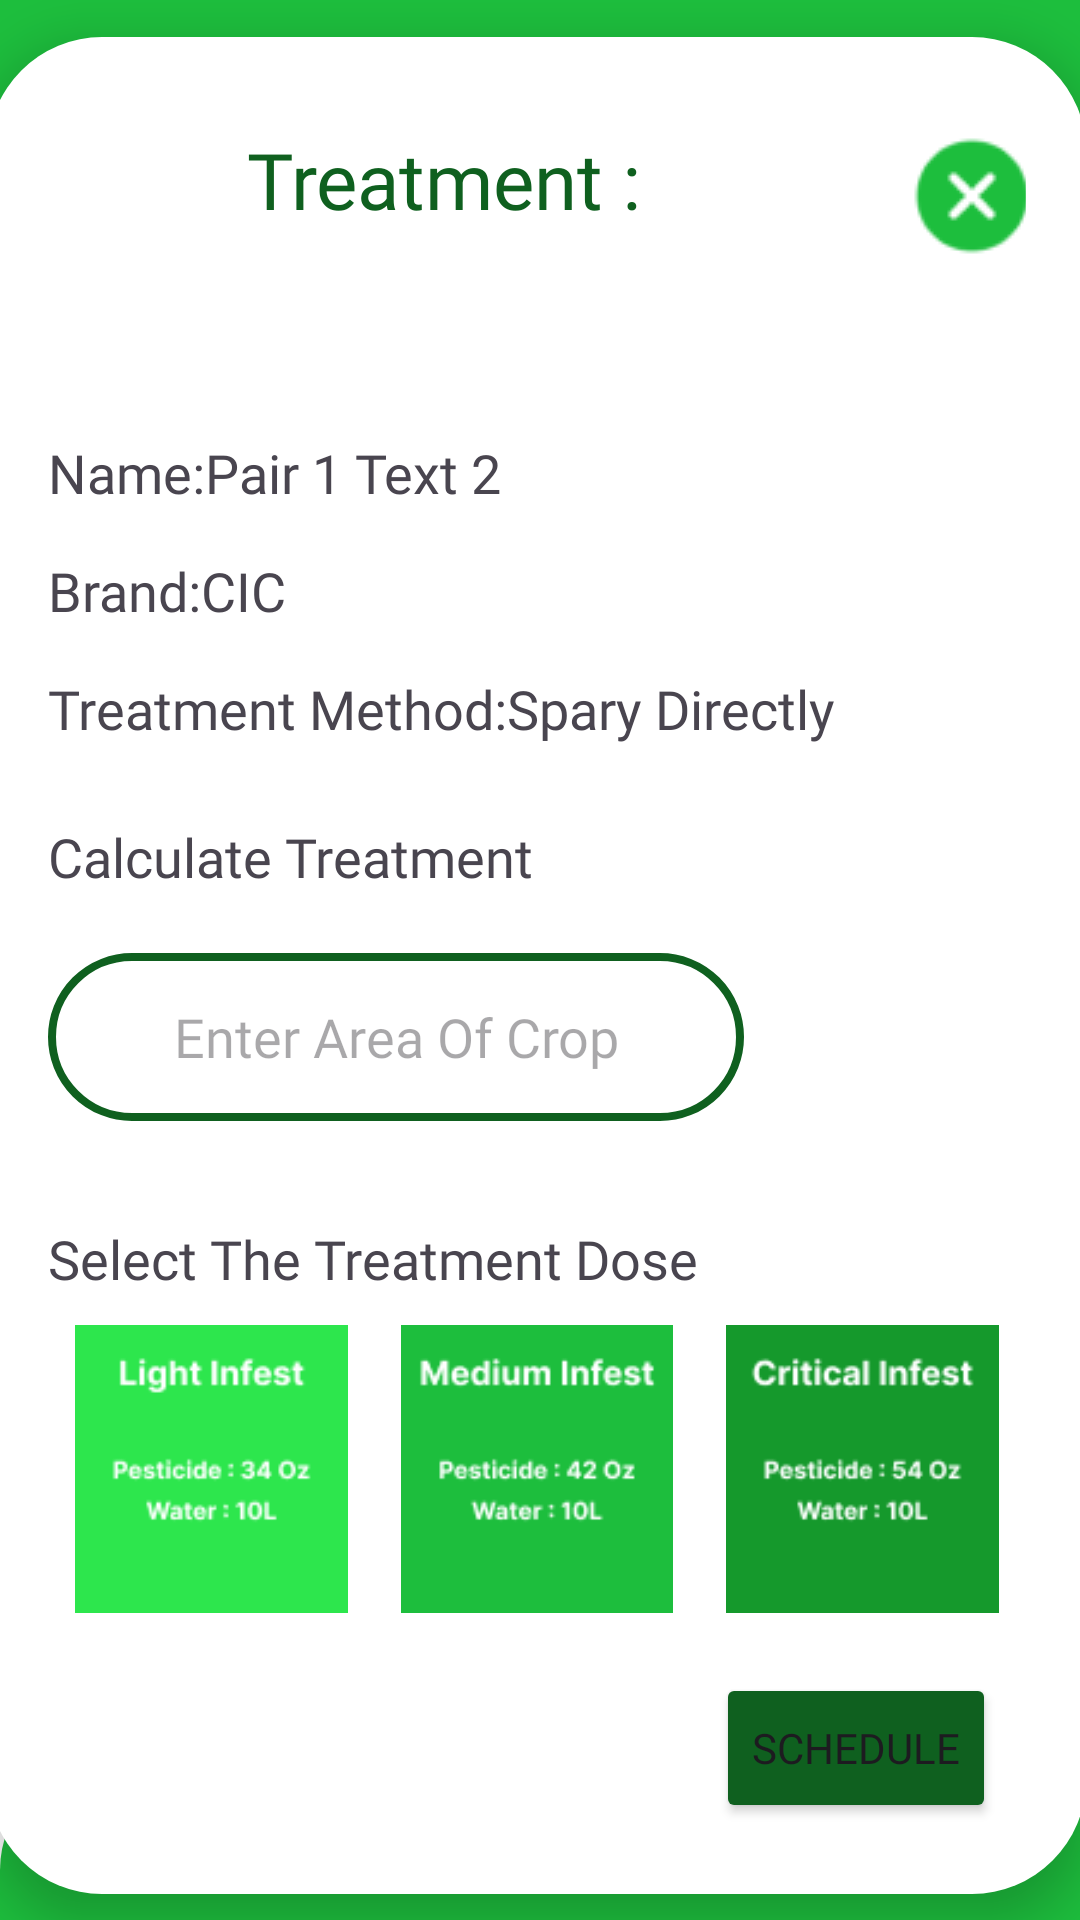

Icons on this 1080w x 1920h Android screen, each with the point to tap as (x=x, y=y):
macos close: (x=970, y=196)
